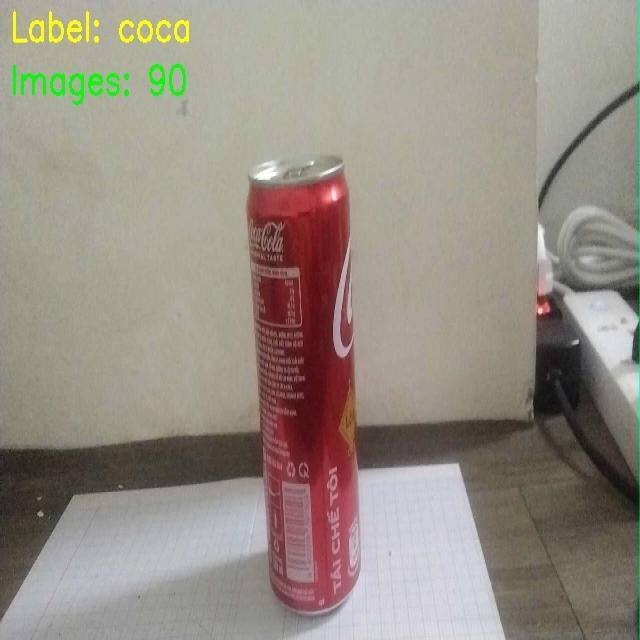Coca: (221, 131, 398, 631)
